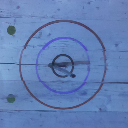Axe Tip: (55, 64, 66, 66)
